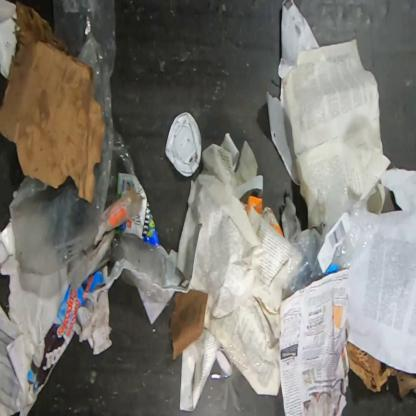cardboard: (0, 1, 106, 202), (27, 269, 105, 398), (346, 341, 415, 401), (246, 196, 283, 234)
rigid_plastic: (165, 113, 202, 177)
soft_plastic: (11, 0, 170, 297), (284, 162, 376, 296)
